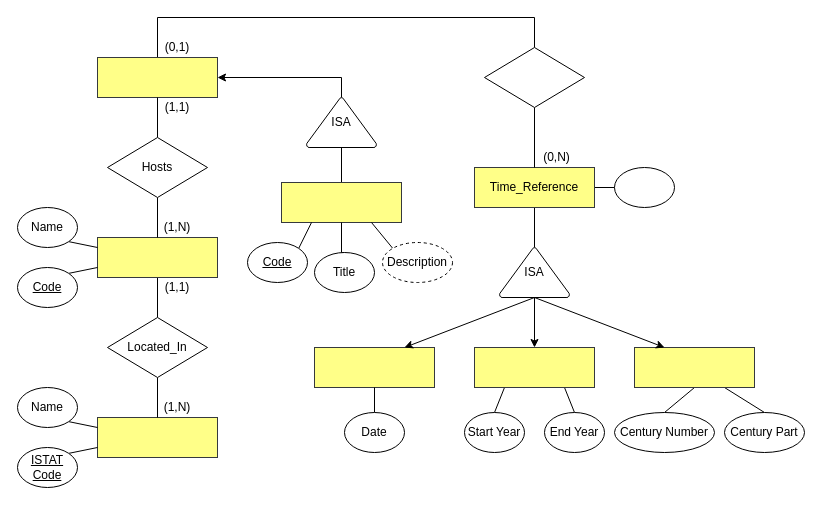
Image size: 822x505. Some labels were removed from this diagram. The shapes that lost their labels are listed below. From the top down, each one's centre as x and y in pixels, then its label:
point (157, 77): Painting
point (534, 77): Time_Refered
point (341, 202): Art_Work
point (644, 187): EDTF Value
point (157, 257): Cultural_Institute Or_Site
point (374, 367): Exact_Date
point (534, 367): Year_Range
point (694, 367): Century_Reference
point (157, 437): Place
